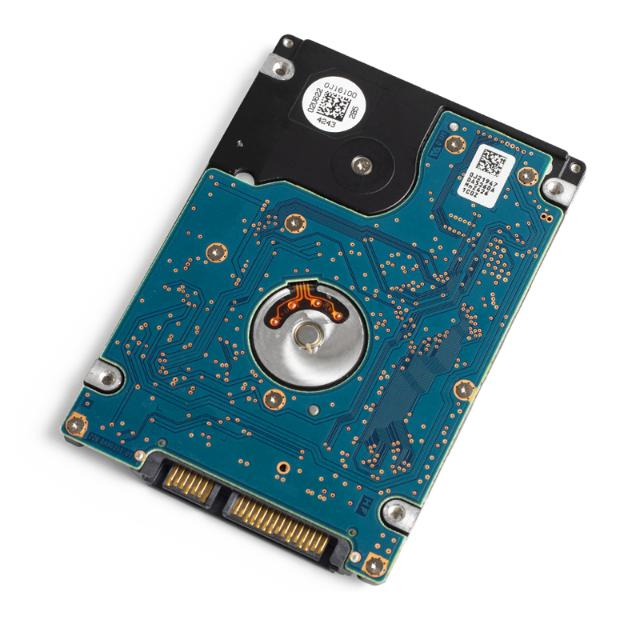HDD: (58, 36, 587, 586)
